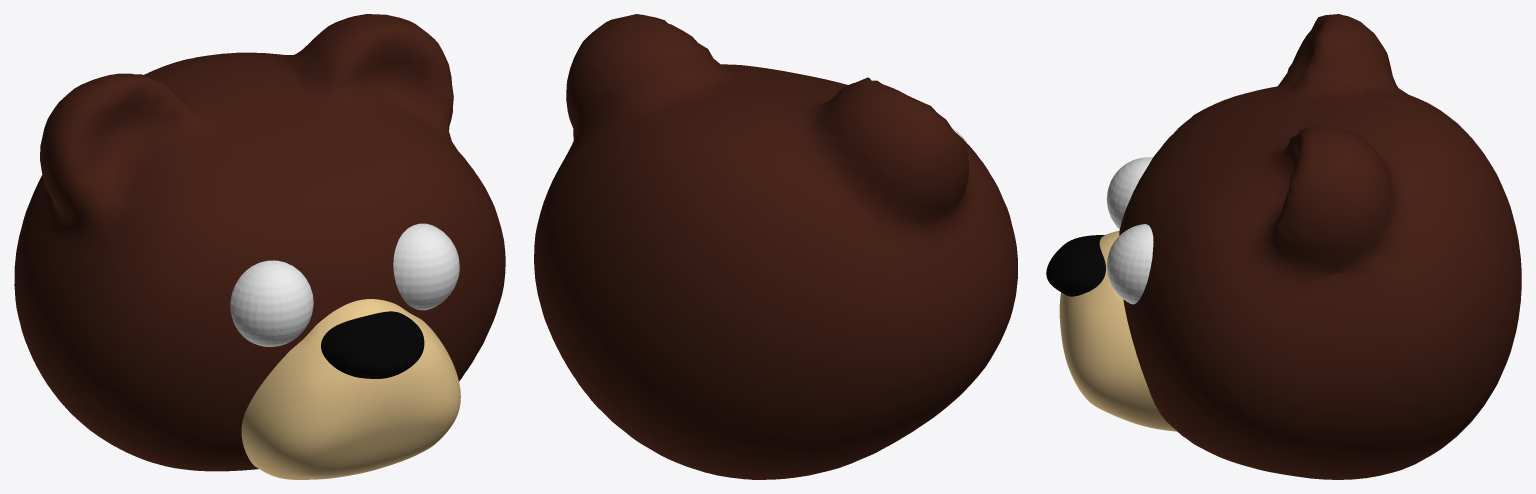
Rendered from bearHead.fbx.
3 views of the same model, side by side, from view 1: azimuth 30°, elevation 25°; view 2: azimuth 150°, elevation 25°; view 3: azimuth 270°, elevation 25° (orthographic). The views are drawn at different scales.
Visible parts, largest first — view 1: Cube, Cube.005, Sphere.001, Cube.006; view 2: Cube; view 3: Cube, Cube.005, Sphere.001, Cube.006.
Boxes of the visible parts, box(x1,y1,x2,y2) form: Cube: box(14, 14, 505, 471); Cube.005: box(241, 299, 460, 479); Sphere.001: box(230, 223, 459, 346); Cube.006: box(321, 311, 424, 378); Cube: box(534, 14, 1017, 479); Cube: box(1119, 14, 1521, 479); Cube.005: box(1059, 231, 1176, 431); Sphere.001: box(1106, 157, 1153, 304); Cube.006: box(1046, 235, 1105, 296).
Size of the model in its own units: 188 by 168 by 194.
